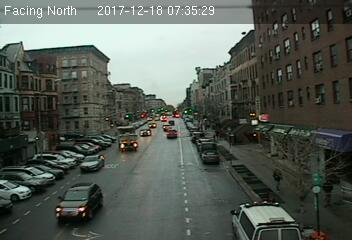car: (54, 183, 103, 221), (78, 154, 104, 173), (201, 150, 220, 165), (166, 129, 177, 138)
pedestrian: (271, 165, 284, 194)
police: (230, 199, 303, 240)
